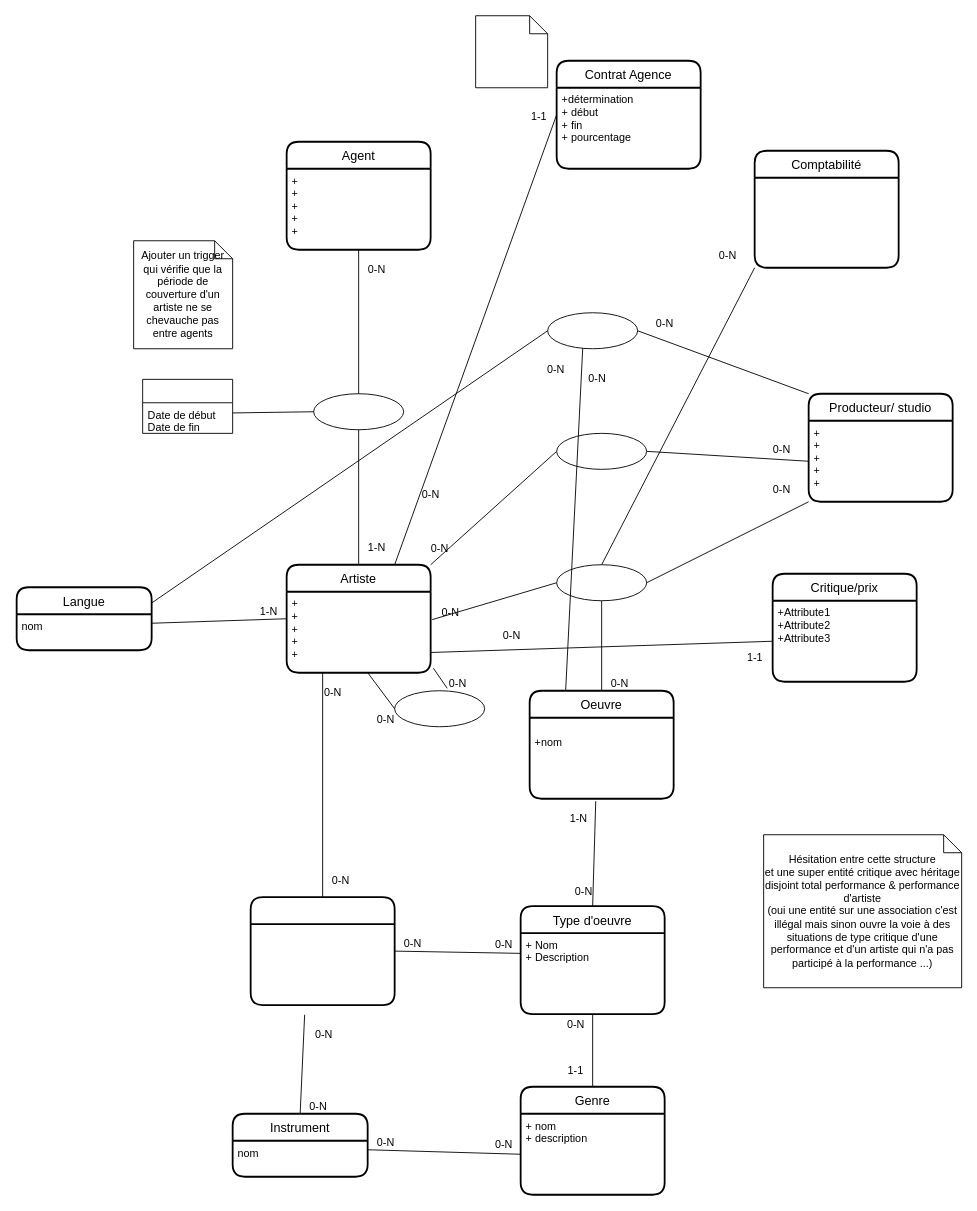
Some shapes in this 977 by 1211 pixel diagram are drawn without their labels. The centre of each missing label's shape, as x and y in pixels:
"check non null si cdi" goes at (511,51).
"Contrat artiste product oeuvre" goes at (601,582).
"DEMANDES" goes at (592,330).
"Formation" goes at (322,951).
"Gère un artiste" goes at (358,411).
"Relation artiste a artiste" goes at (439,708).
"Relation d'artiste a producteur" goes at (601,450).
